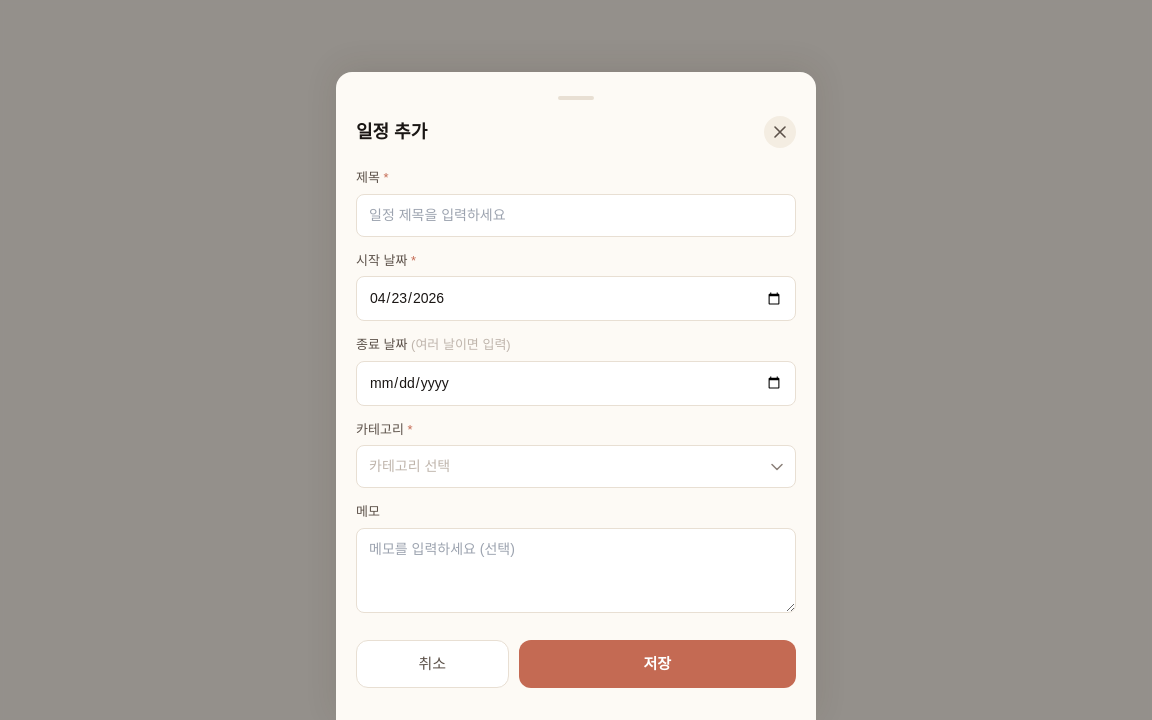
Scenario: EventForm › 검증: 필수 필드 미입력 시 에러 › 카테고리 미선택 시 카테고리 에러가 표시된다
Type "테스트 일정" into the field labelled "제목 *" at (576, 215), box x1=356 y1=194 x2=796 y2=236
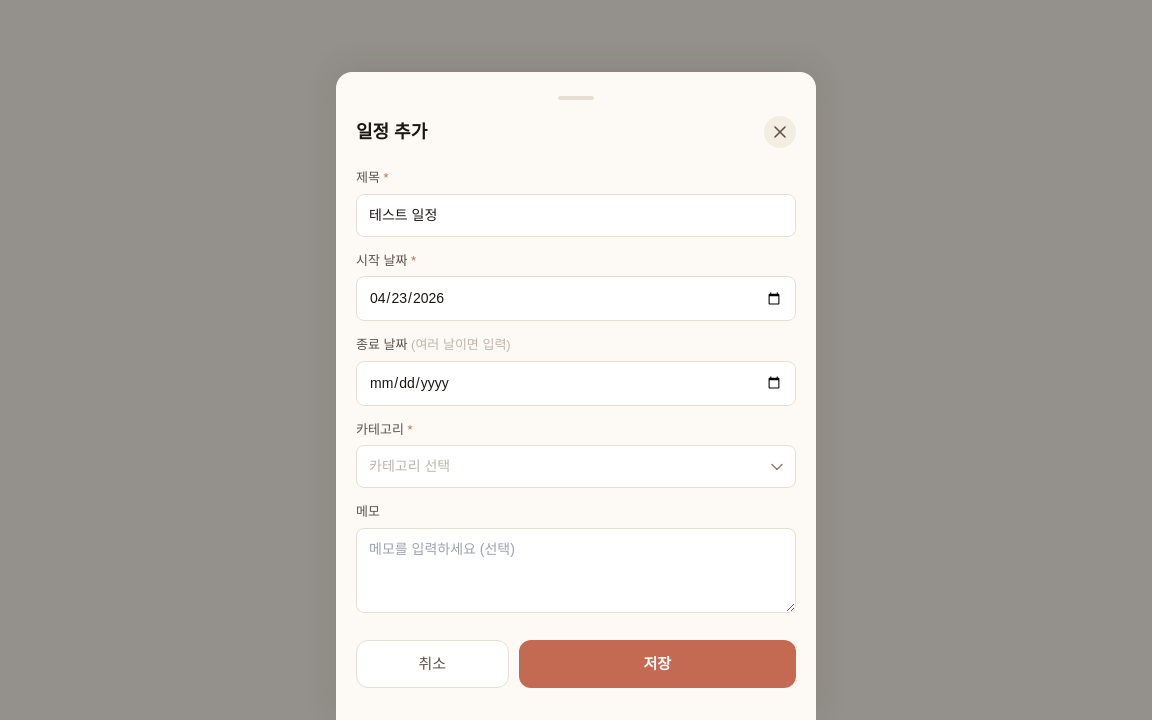
Click the button "저장" at (657, 664), box x1=519 y1=640 x2=796 y2=688
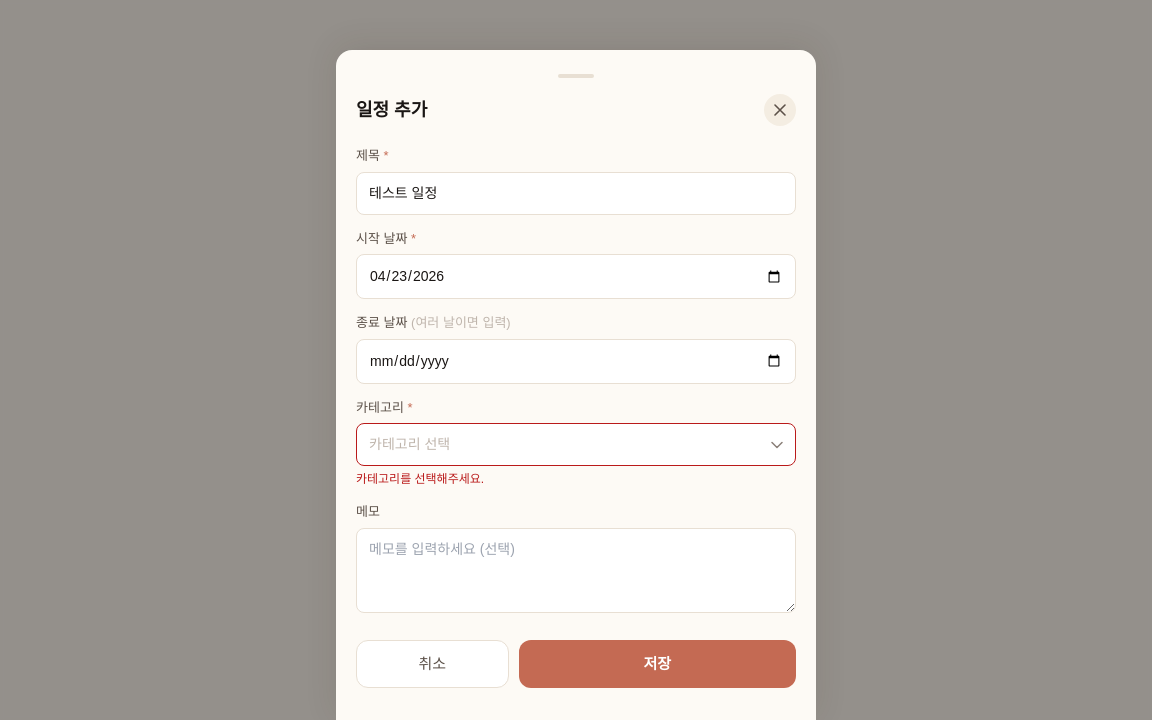
Expected: the text "카테고리를 선택해주세요." is shown, x1=356 y1=472 x2=484 y2=486
